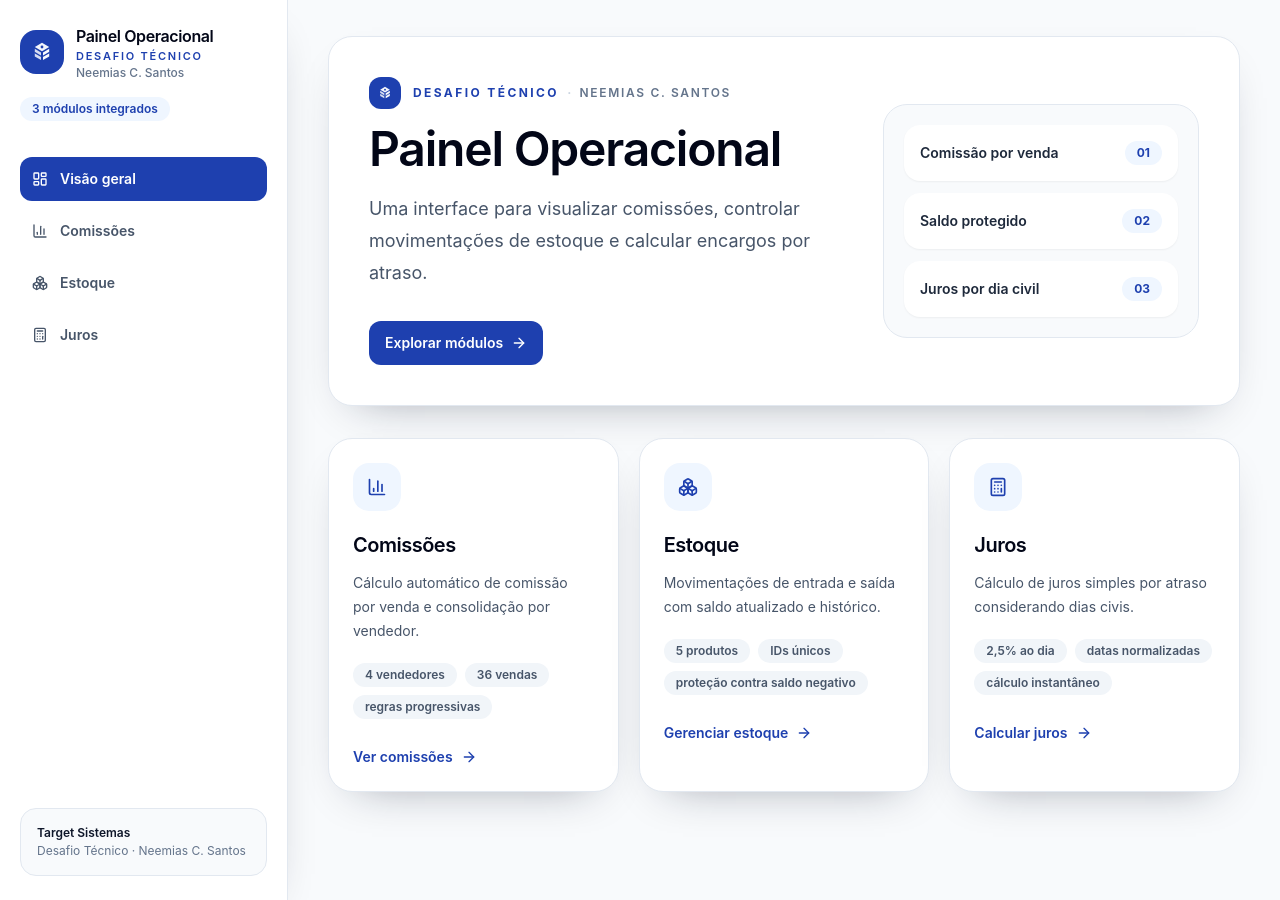
Test: interface web › bloqueia saída maior que o estoque
Click the button "Estoque".
click(144, 282)  # box left=20, top=260, right=267, bottom=304
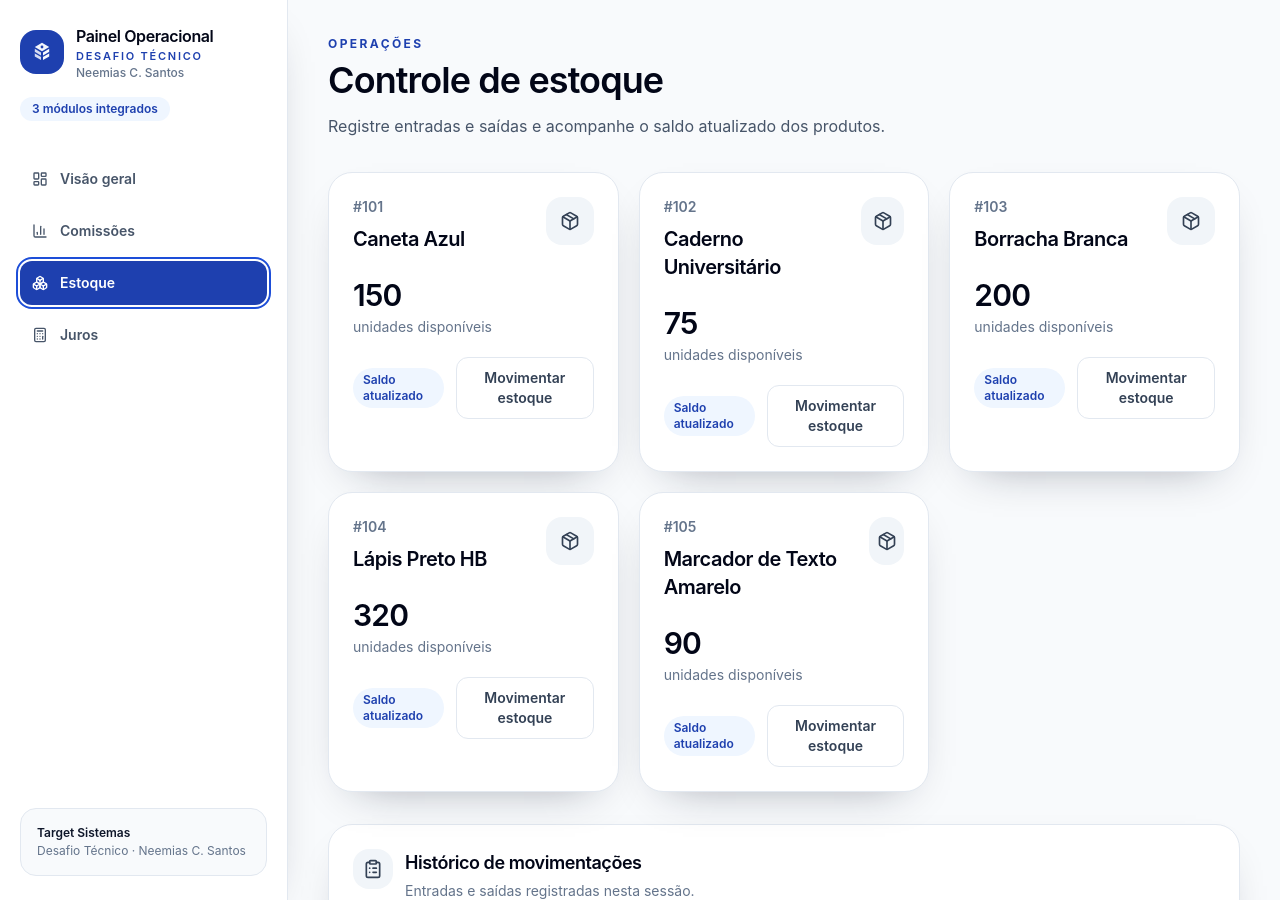
Click the button "Movimentar estoque" below "150".
click(525, 388)  # box left=456, top=357, right=594, bottom=419
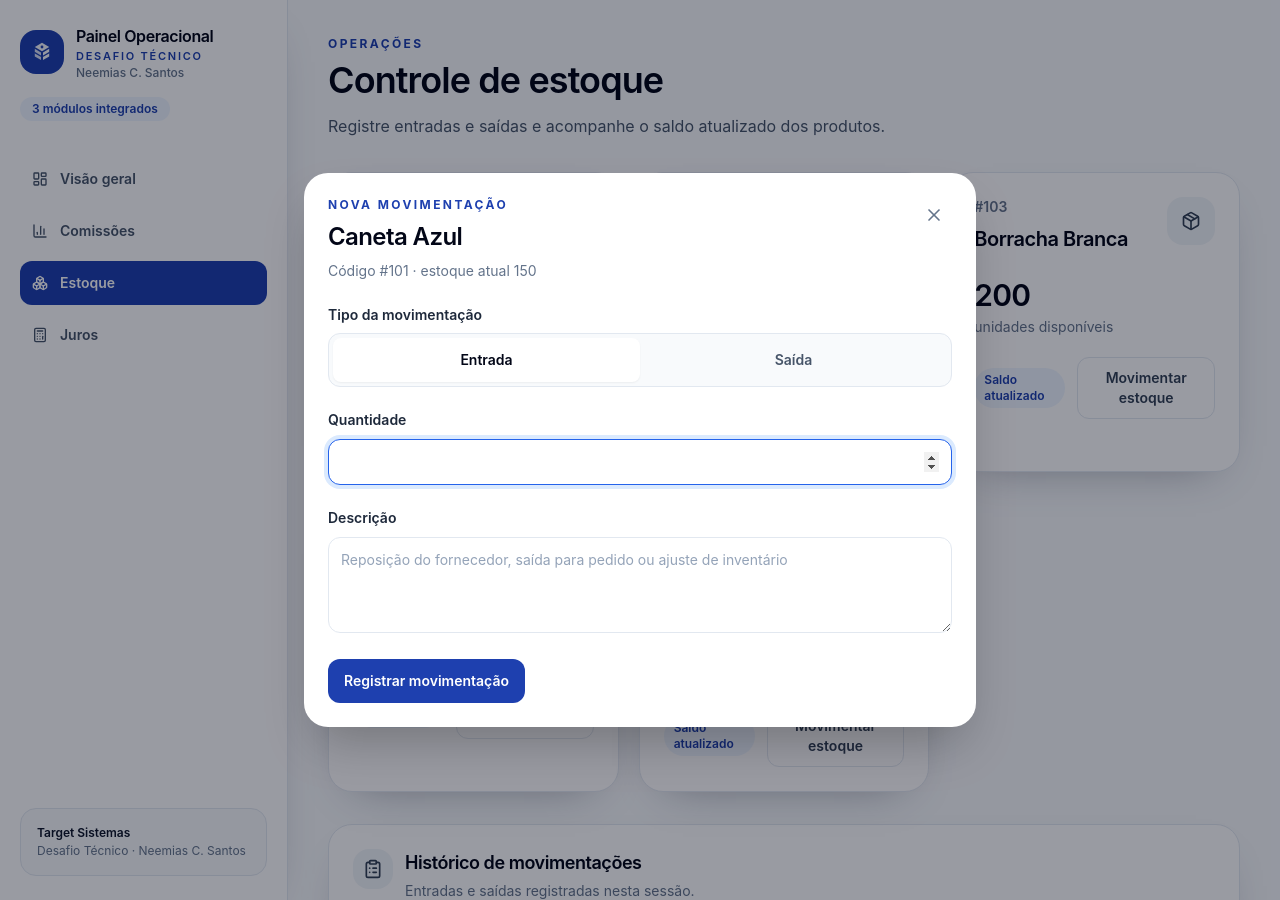
Click the button "Saída".
click(794, 360)  # box left=640, top=338, right=947, bottom=382
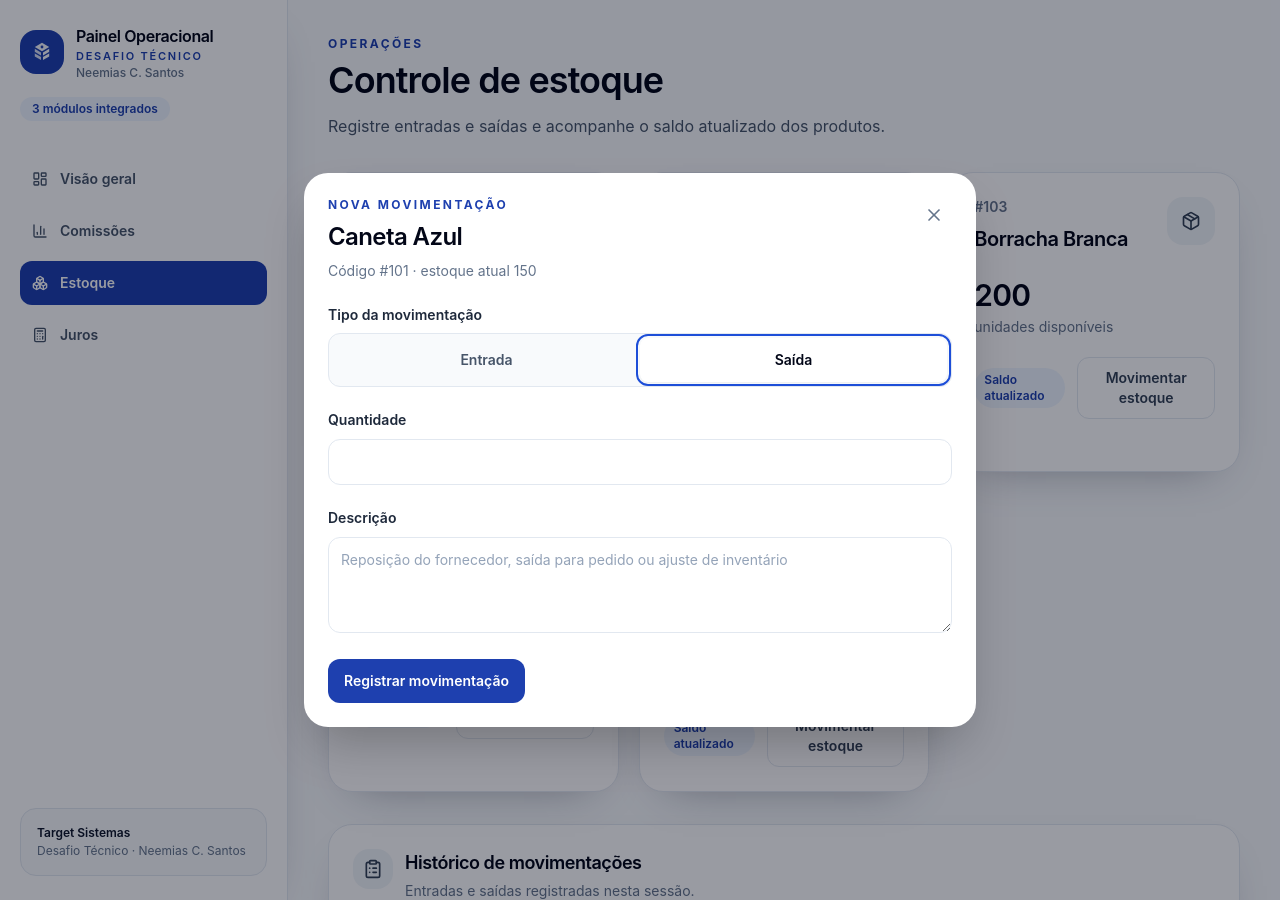
Type "999" into the number field labelled "Quantidade".
click(640, 462); type("999")  # box left=328, top=439, right=952, bottom=485
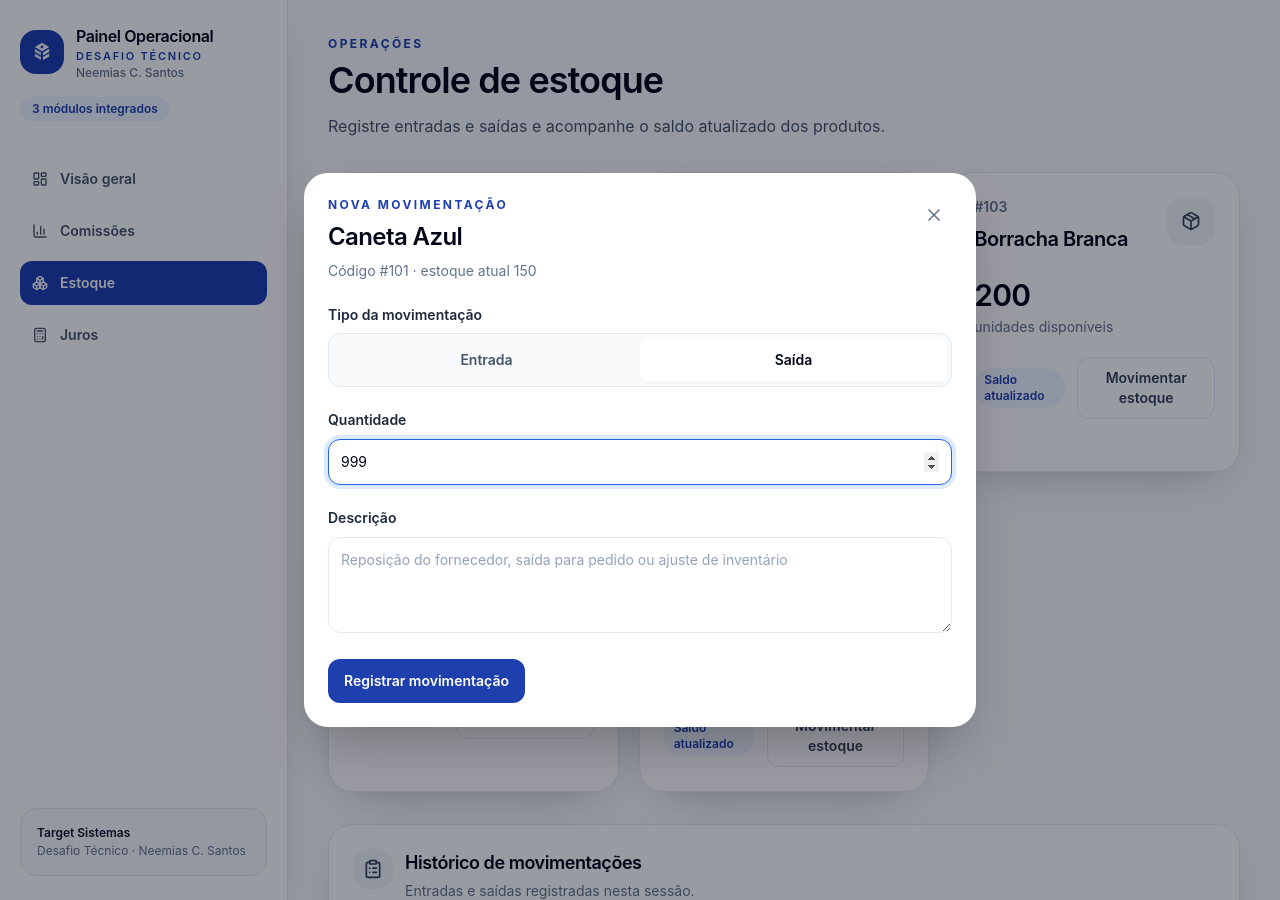
Type "Venda inválida" into the text box labelled "Descrição".
click(640, 585); type("Venda inválida")  # box left=328, top=537, right=952, bottom=633
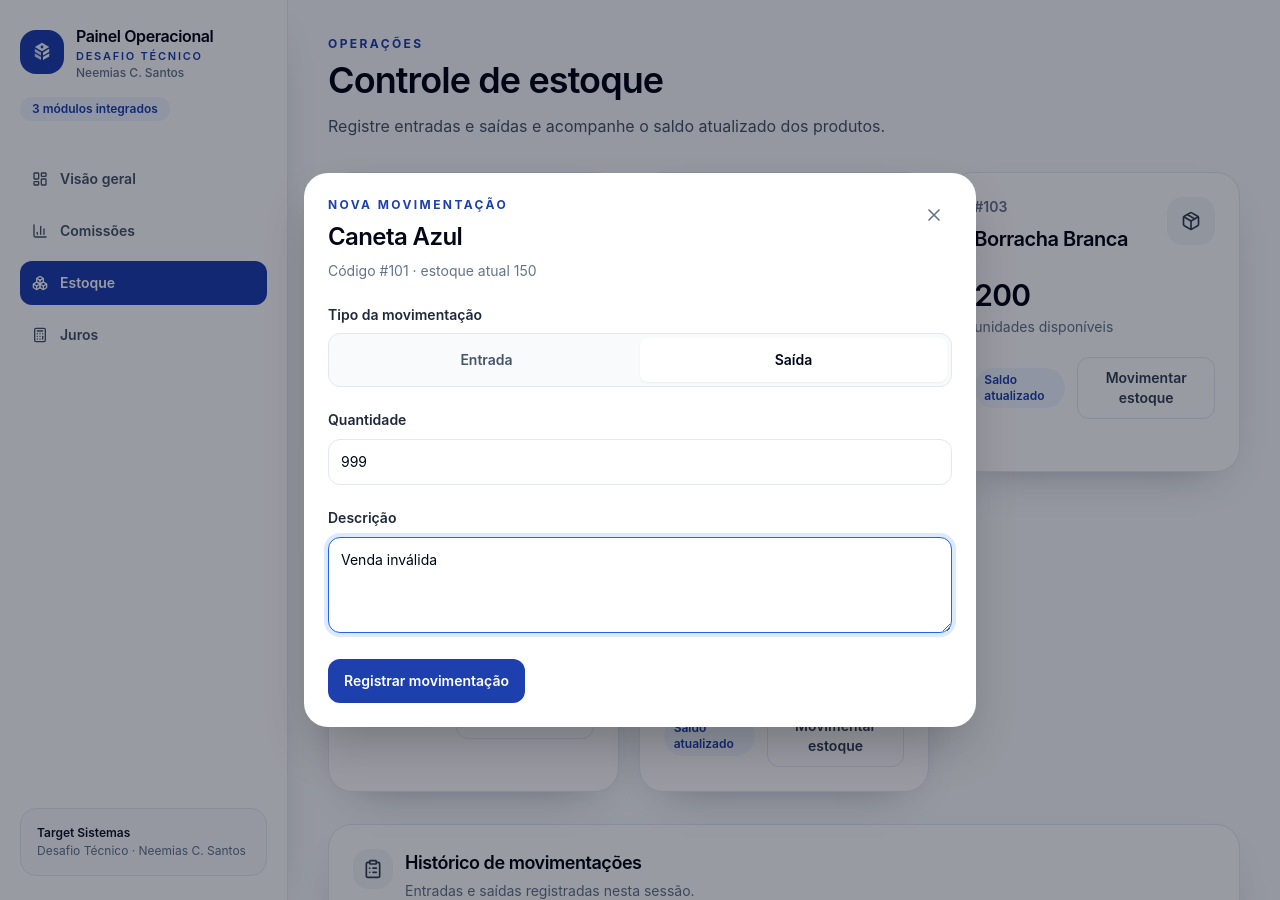
Click the button "Registrar movimentação".
click(426, 681)  # box left=328, top=659, right=525, bottom=703
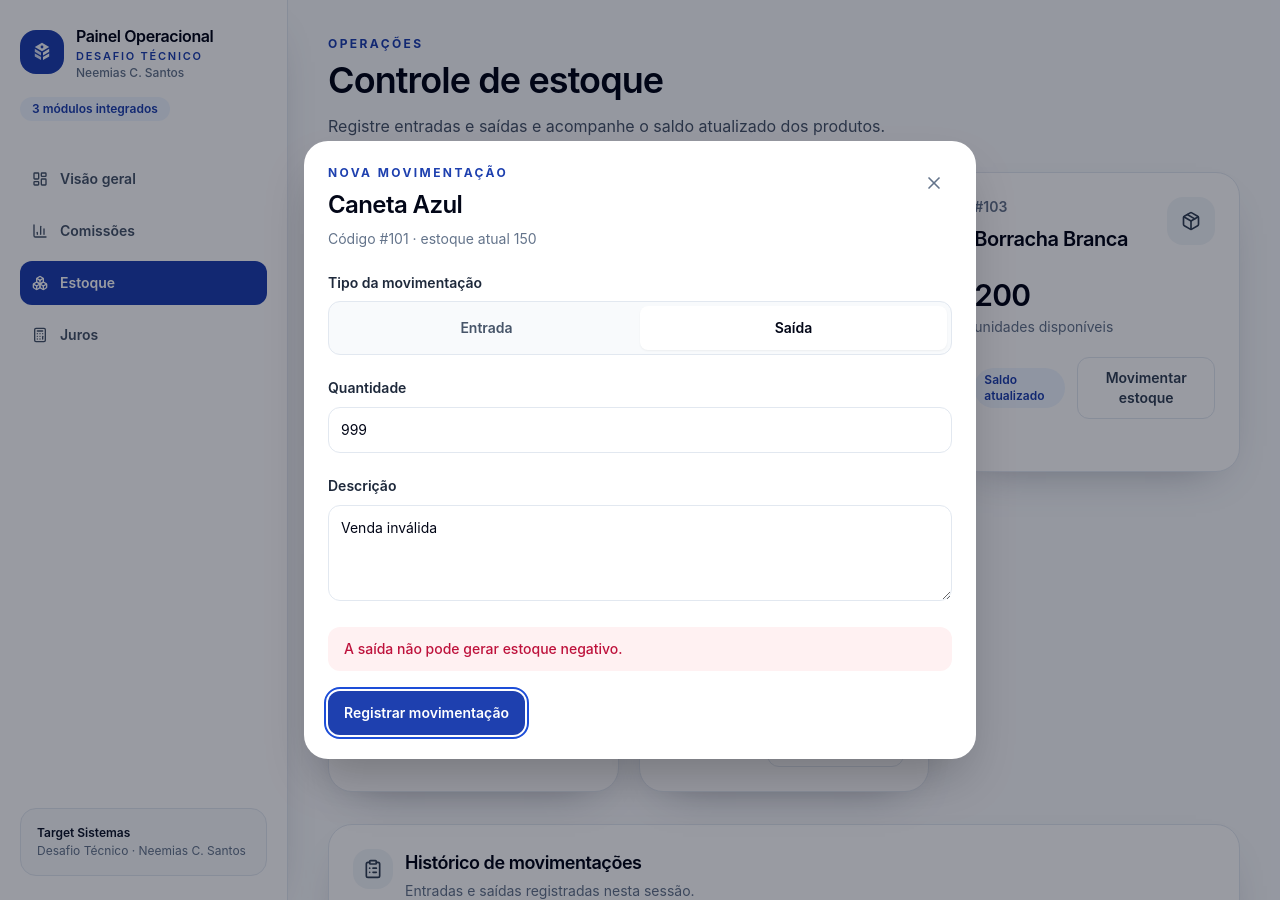
Expected: the element with test id "product-101" shows "150", left=353, top=277, right=402, bottom=313
Expected: the text "A saída não pode gerar estoque negativo." is shown, left=328, top=627, right=952, bottom=671
